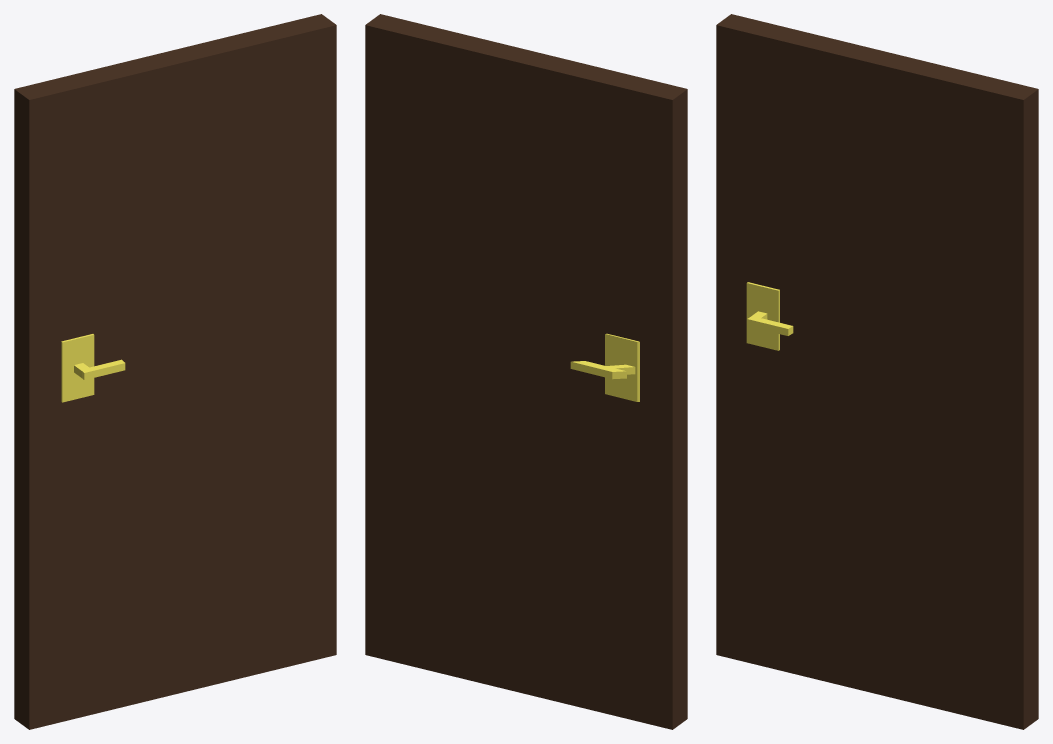
The model's file is BrokenDoor.fbx.
3 renders of one model, left to right at view 1: azimuth 30°, elevation 25°; view 2: azimuth 150°, elevation 25°; view 3: azimuth 330°, elevation 25°, orthographic.
Visible parts, largest first — view 1: Cube.007, Cube.024, Cube.021, Cube.023, Cube.022, Cube.026, Cube.025, Cube.018, Cube.017, Cube.019, Cube.016, Cube.015 (+3 smaller); view 2: Cube.007, Cube.024, Cube.021, Cube.023, Cube.022, Cube.026, Cube.025, Cube.018, Cube.017, Cube.019, Cube.016, Cube.015 (+4 smaller); view 3: Cube.007, Cube.024, Cube.021, Cube.026, Cube.025, Cube.023, Cube.022, Cube.019, Cube.018, Cube.020, Cube.017, Cube.016 (+4 smaller).
Boxes of the visible parts, x1,y1,x2,y2 form: Cube.007: (14,473,268,729); Cube.024: (113,293,268,515); Cube.021: (109,179,288,362); Cube.023: (14,373,161,510); Cube.022: (14,206,129,384); Cube.026: (269,436,336,671); Cube.025: (269,293,336,515); Cube.018: (108,105,287,205); Cube.017: (14,122,129,258); Cube.019: (222,58,336,183); Cube.016: (14,55,166,144); Cube.015: (108,30,268,144); Cube.007: (433,473,687,729); Cube.024: (433,293,588,515); Cube.021: (413,179,592,362); Cube.023: (540,373,687,510); Cube.022: (572,206,687,384); Cube.026: (365,436,432,671); Cube.025: (365,293,432,515); Cube.018: (414,105,593,205); Cube.017: (572,122,687,258); Cube.019: (365,58,479,183); Cube.016: (535,55,687,144); Cube.015: (433,30,593,144); Cube.007: (716,436,955,713); Cube.024: (796,329,955,557); Cube.021: (796,180,975,335); Cube.026: (956,500,1038,729); Cube.025: (956,336,1038,557); Cube.023: (716,310,848,462); Cube.022: (716,180,816,329); Cube.019: (909,122,1038,258); Cube.018: (795,108,974,229); Cube.020: (956,230,1038,384); Cube.017: (716,58,816,183); Cube.016: (716,14,868,107).
Size of the model in its own units: 239 by 468 by 52.6.
